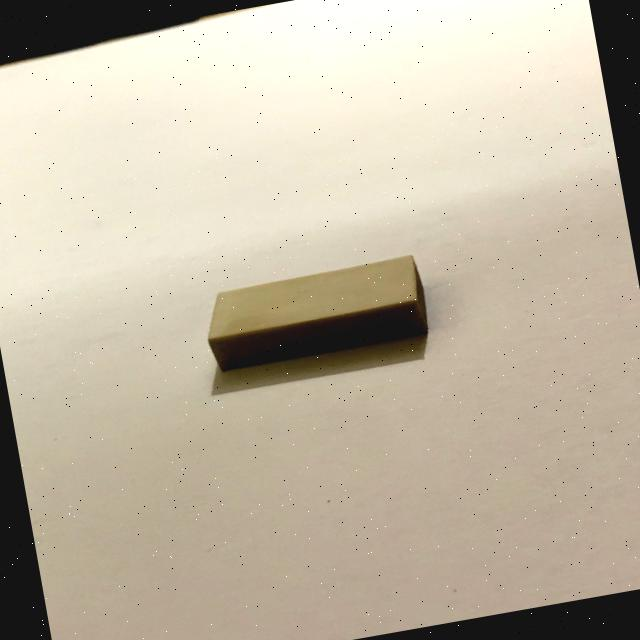Eraser: (143, 213, 485, 418)
